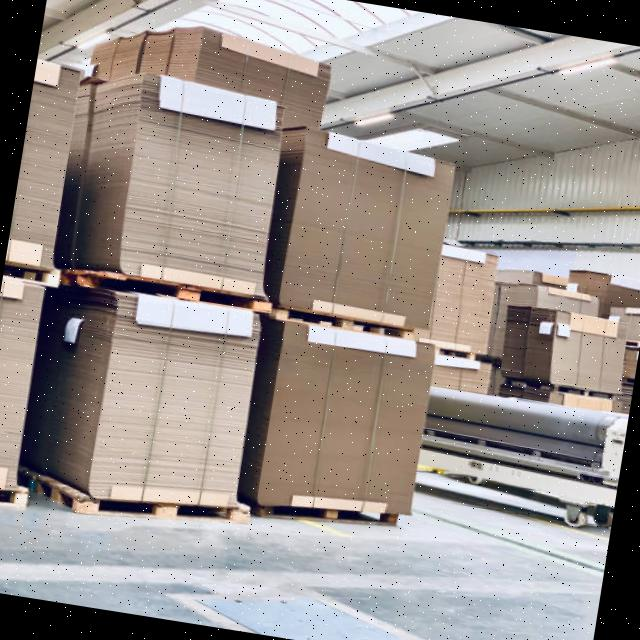Wooden-Pallets: (33, 470, 248, 529), (251, 497, 416, 540), (277, 300, 426, 346)
